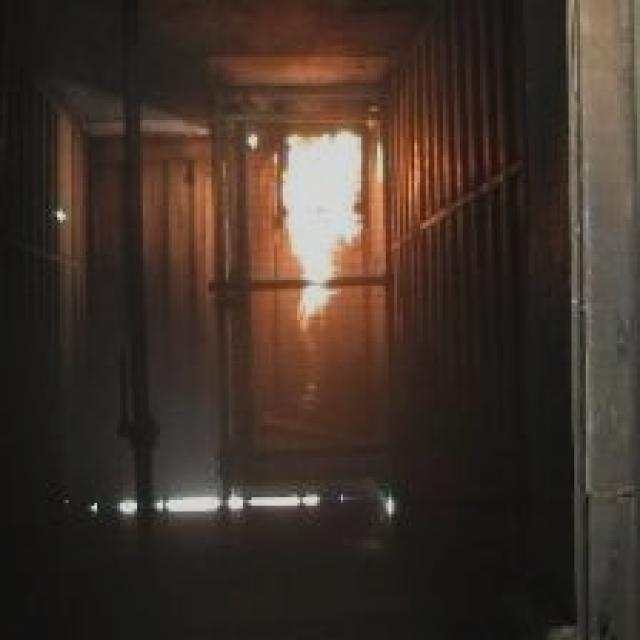fire: (263, 123, 371, 323)
